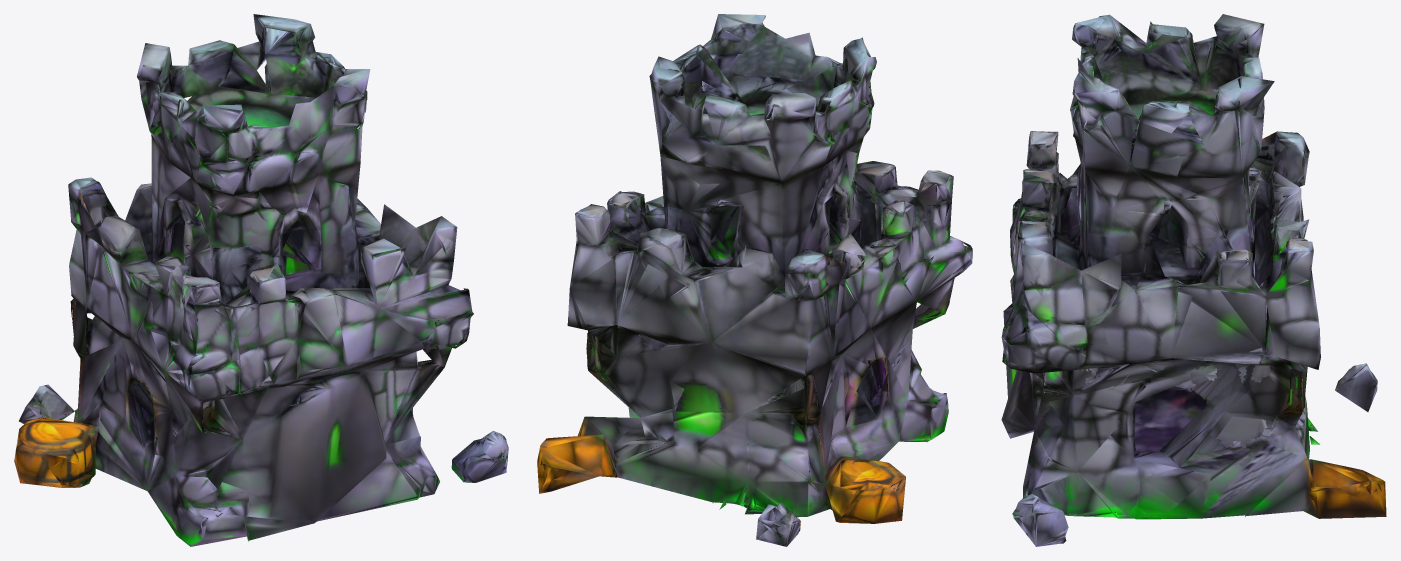
Rendered from fortress.glb.
3 renders of one model, left to right at view 1: azimuth 30°, elevation 25°; view 2: azimuth 150°, elevation 25°; view 3: azimuth 270°, elevation 25°, orthographic. The views are drawn at different scales.
Size of the model in its own units: 1.9 by 1.99 by 1.69.
1 material, 1 textured.
